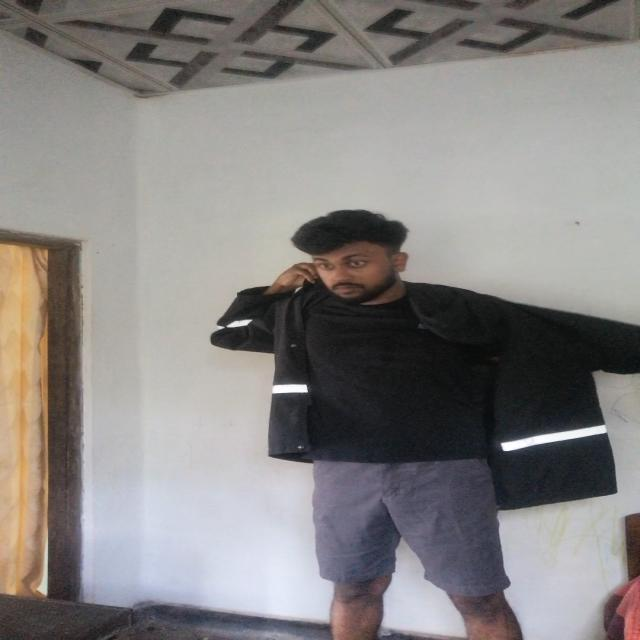Jacket_Wearer: (223, 272, 640, 502)
